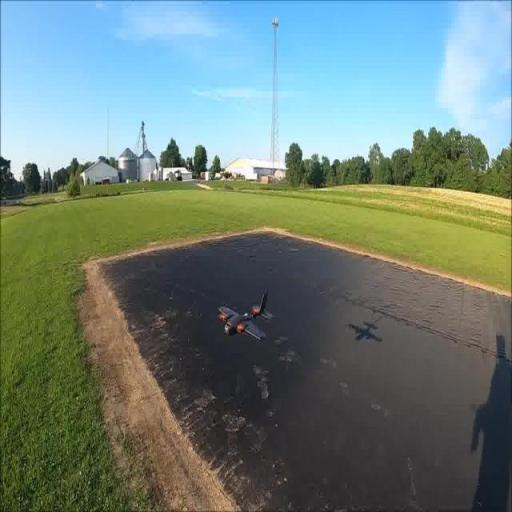uav: (216, 288, 274, 354)
